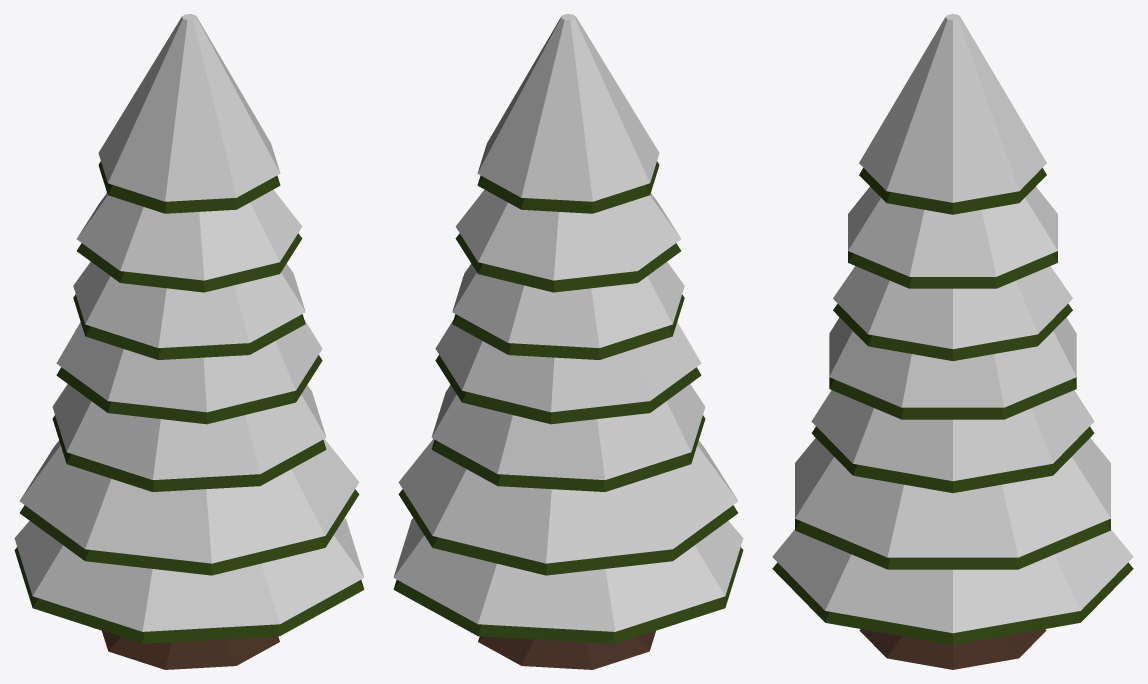
Rendered from SnowPineTree004.fbx.
The picture shows the model from 3 angles, left to right: view 1: azimuth 30°, elevation 25°; view 2: azimuth 150°, elevation 25°; view 3: azimuth 270°, elevation 25°; orthographic projection.
Visible parts, largest first — view 1: Cylinder.006; view 2: Cylinder.006; view 3: Cylinder.006.
Boxes of the visible parts, x1,y1,x2,y2 form: Cylinder.006: [14, 14, 364, 669]; Cylinder.006: [393, 14, 743, 669]; Cylinder.006: [772, 14, 1133, 669].
Bounding box in the file's own units: 828 × 1550 × 828.
